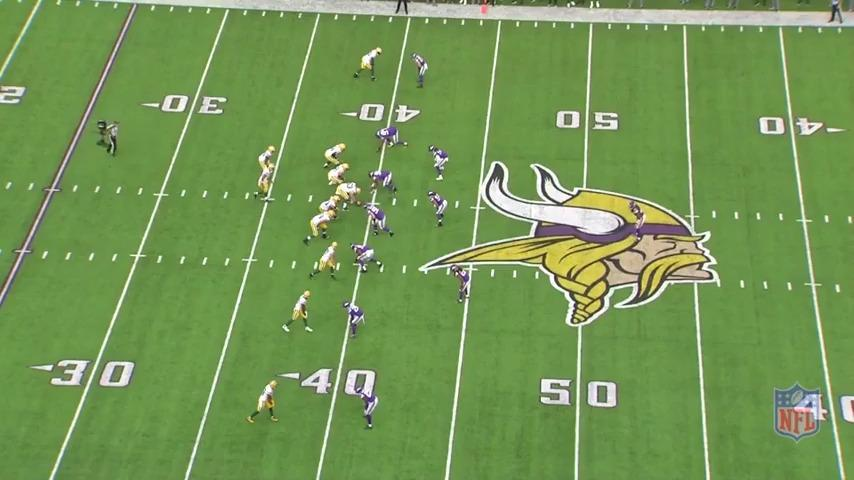defense: (363, 200, 395, 238), (351, 243, 386, 275), (357, 384, 381, 430), (450, 262, 474, 307), (344, 299, 367, 341), (628, 201, 647, 251), (368, 169, 400, 198), (375, 124, 410, 150), (425, 190, 448, 229), (410, 51, 431, 92), (427, 143, 449, 182)
oline: (304, 210, 337, 246), (336, 181, 367, 211), (323, 141, 350, 171), (327, 160, 352, 188), (314, 195, 340, 219)
qb: (256, 162, 279, 205)
ref: (99, 118, 121, 162), (829, 0, 848, 24), (390, 0, 414, 16)
skill: (244, 377, 281, 427), (281, 288, 316, 337), (309, 240, 342, 281), (353, 45, 386, 84), (256, 143, 277, 180)
